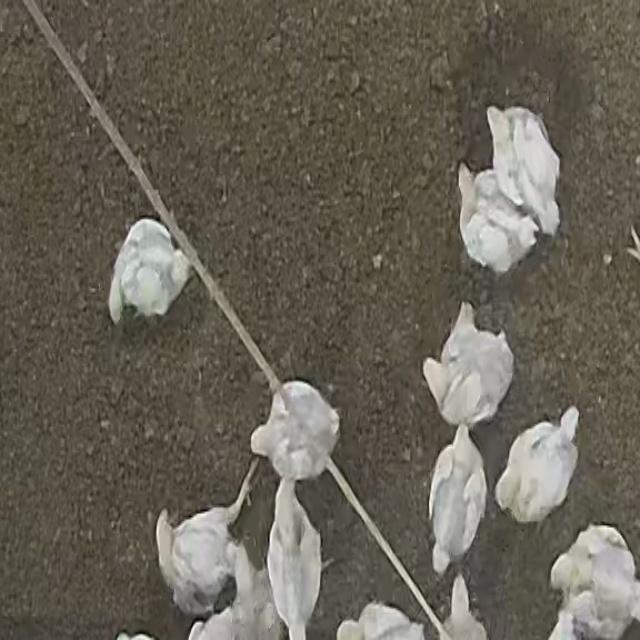chicken: (144, 456, 258, 614), (418, 298, 518, 422), (495, 399, 587, 527), (421, 421, 489, 579), (261, 479, 329, 635), (105, 216, 196, 331), (247, 379, 343, 480)
